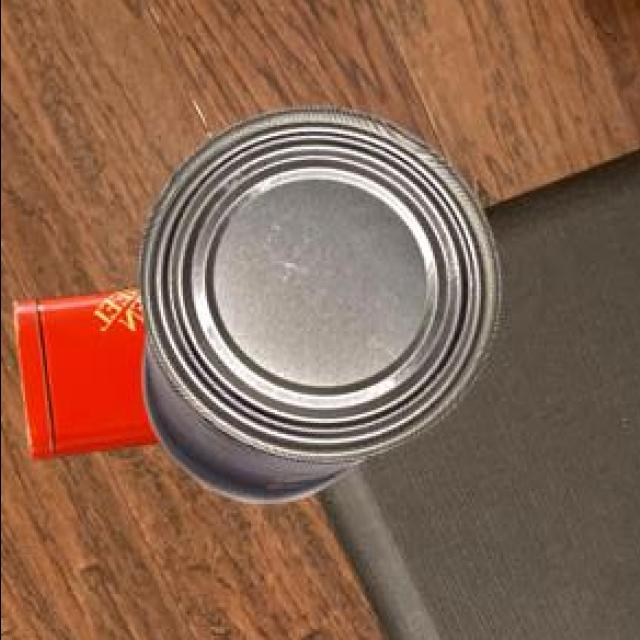logam: (141, 111, 503, 505), (16, 293, 163, 464)
